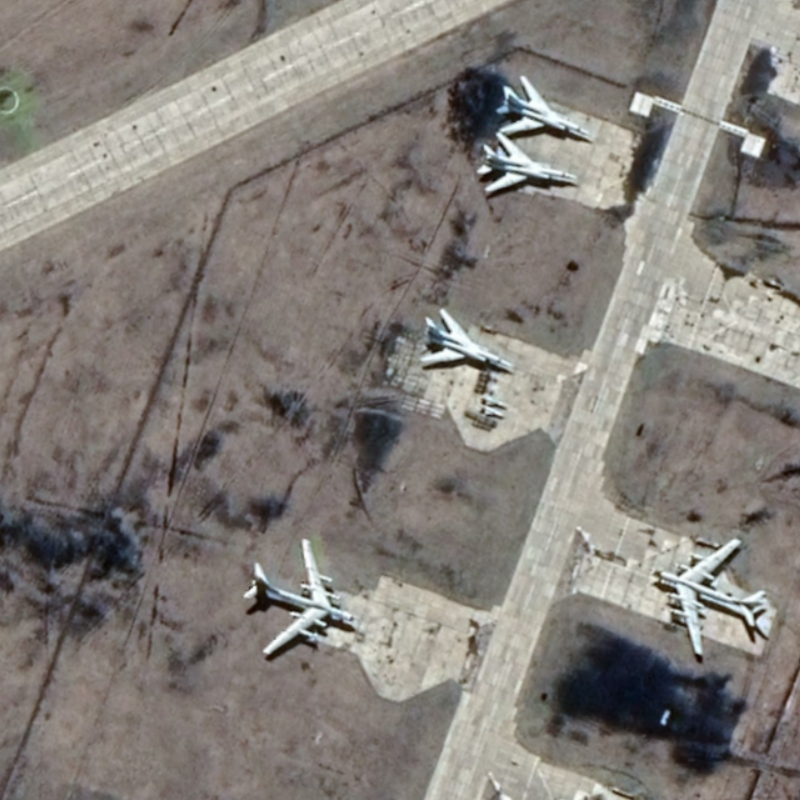A12: (475, 129, 579, 195), (493, 73, 593, 139), (418, 306, 516, 371)
A17: (651, 536, 769, 660), (241, 536, 357, 658)
